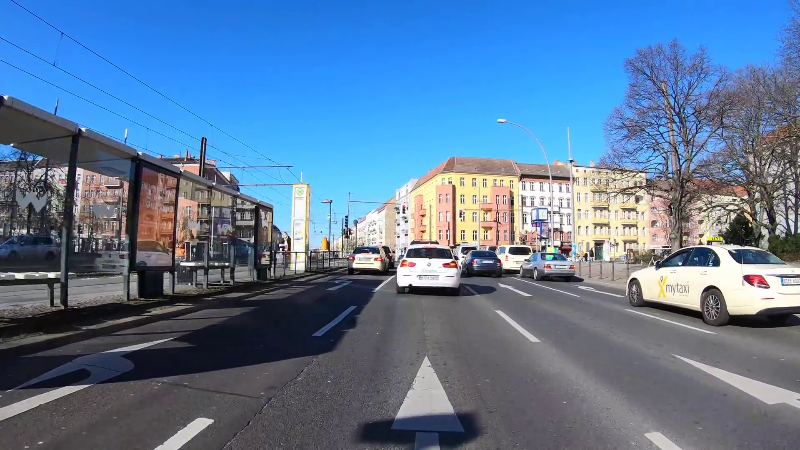Plate: (777, 275, 800, 287), (417, 272, 441, 281)
